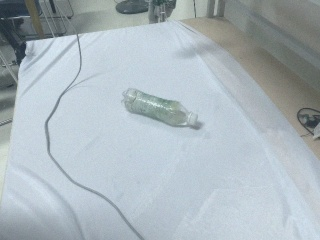bottle: (122, 88, 199, 129)
